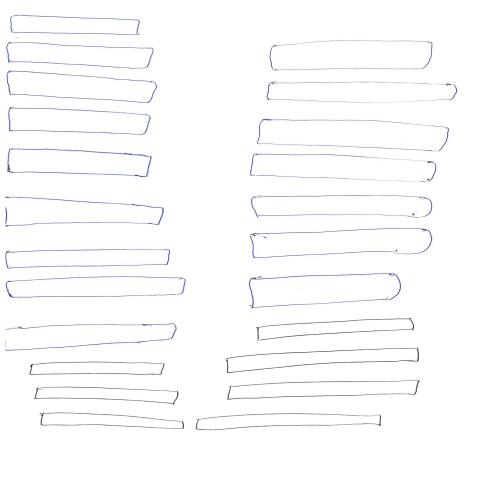Textbox: (258, 119, 449, 153), (251, 227, 434, 260), (250, 153, 438, 184), (7, 70, 158, 105), (269, 40, 434, 72), (226, 348, 421, 375), (251, 195, 436, 220), (267, 81, 457, 105), (6, 41, 155, 71), (8, 106, 151, 137), (7, 148, 152, 178), (226, 380, 420, 401), (5, 277, 186, 299), (256, 319, 416, 343), (5, 249, 171, 270), (196, 414, 383, 431), (10, 15, 142, 37), (33, 387, 180, 406), (40, 413, 186, 431), (28, 362, 165, 377)
